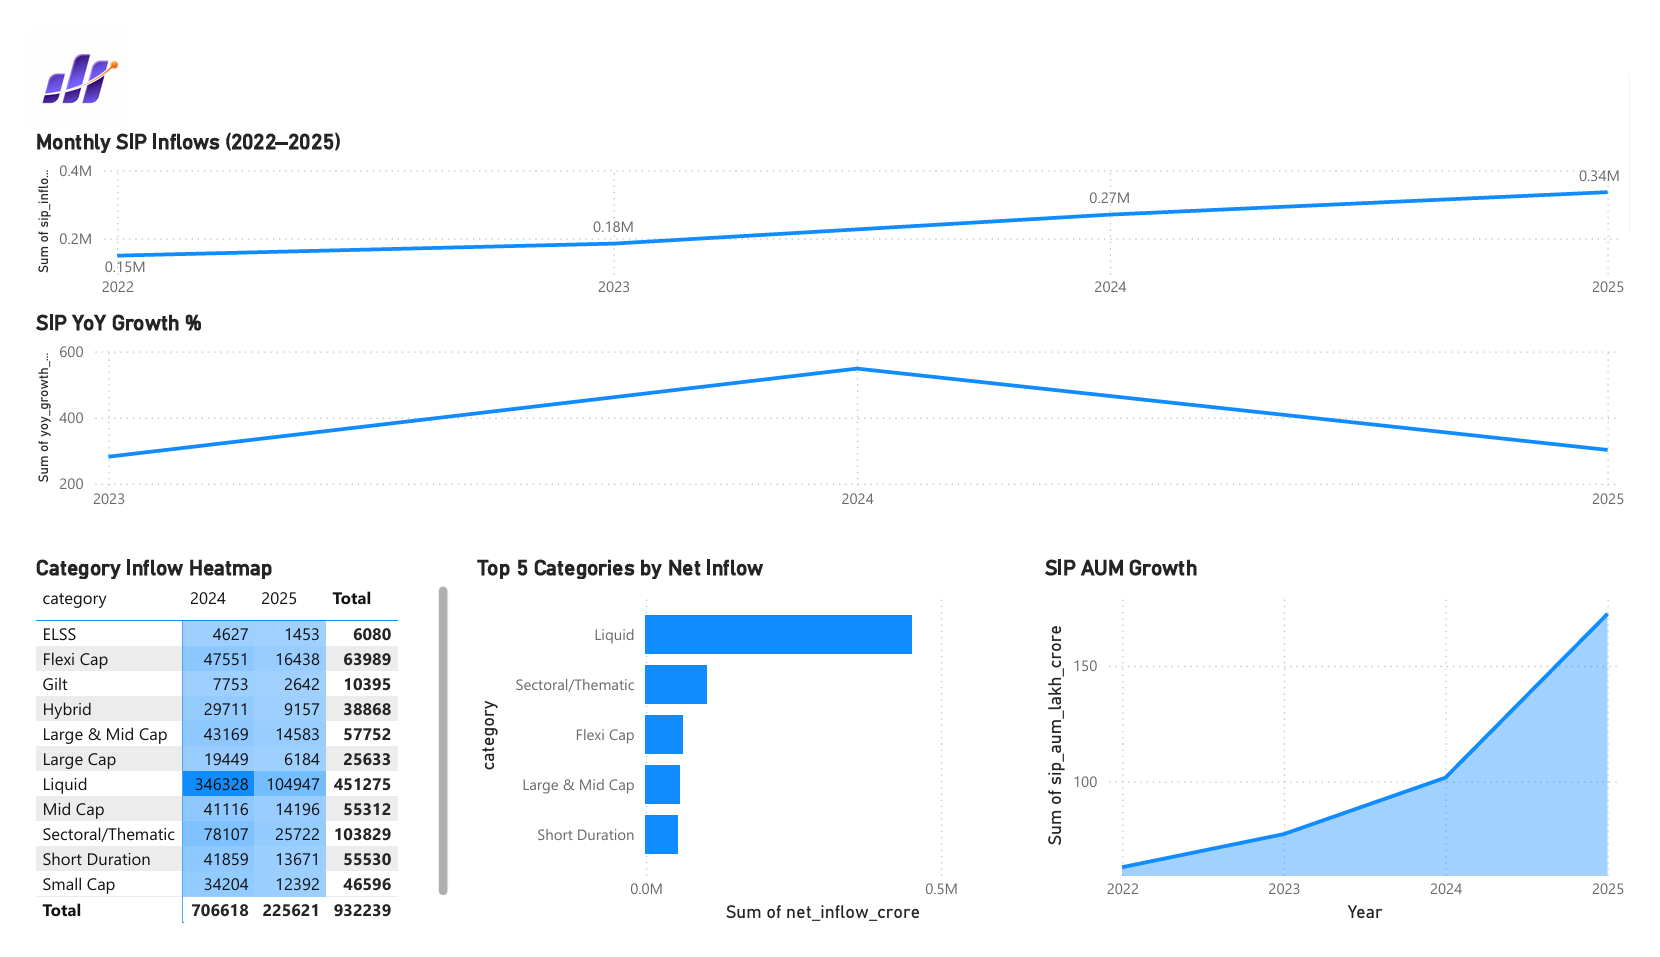

The dashboard page shown, as its layout file describes it:
{"tool":"powerbi","page":{"name":"SIP & Market Trends","canvas":[1280,720],"ordinal":3},"visuals":[{"type":"lineChart","title":"Monthly SIP Inflows (2022–2025)","fields":{"Category":["monthly_sip_inflows_cleaned.month.Variation.Date Hierarchy.Year","monthly_sip_inflows_cleaned.month.Variation.Date Hierarchy.Quarter","monthly_sip_inflows_cleaned.month.Variation.Date Hierarchy.Month","monthly_sip_inflows_cleaned.month.Variation.Date Hierarchy.Day"],"Y":["Sum(monthly_sip_inflows_cleaned.sip_inflow_crore)"]},"box":[0,79.6,1280.3,145.5],"z":0},{"type":"lineChart","title":"SIP YoY Growth %","fields":{"Category":["monthly_sip_inflows_cleaned.month.Variation.Date Hierarchy.Year","monthly_sip_inflows_cleaned.month.Variation.Date Hierarchy.Quarter","monthly_sip_inflows_cleaned.month.Variation.Date Hierarchy.Month","monthly_sip_inflows_cleaned.month.Variation.Date Hierarchy.Day"],"Y":["Sum(monthly_sip_inflows_cleaned.yoy_growth_pct)"]},"box":[0,225,1280.3,168.8],"z":1000},{"type":"pivotTable","title":"Category Inflow Heatmap","fields":{"Rows":["category_inflows_cleaned.category"],"Columns":["category_inflows_cleaned.month.Variation.Date Hierarchy.Year","category_inflows_cleaned.month.Variation.Date Hierarchy.Quarter","category_inflows_cleaned.month.Variation.Date Hierarchy.Month","category_inflows_cleaned.month.Variation.Date Hierarchy.Day"],"Values":["Sum(category_inflows_cleaned.net_inflow_crore)"]},"box":[0,421.3,340.3,299.1],"z":2000},{"type":"clusteredBarChart","title":"Top 5 Categories by Net Inflow","fields":{"Category":["category_inflows_cleaned.category"],"Y":["Sum(category_inflows_cleaned.net_inflow_crore)"]},"box":[352.7,421.3,441.9,299.1],"z":3000},{"type":"areaChart","title":"SIP AUM Growth","fields":{"Category":["monthly_sip_inflows_cleaned.month.Variation.Date Hierarchy.Year","monthly_sip_inflows_cleaned.month.Variation.Date Hierarchy.Quarter","monthly_sip_inflows_cleaned.month.Variation.Date Hierarchy.Month","monthly_sip_inflows_cleaned.month.Variation.Date Hierarchy.Day"],"Y":["Sum(monthly_sip_inflows_cleaned.sip_aum_lakh_crore)"]},"box":[806.9,421.3,473.4,299.1],"z":4000},{"type":"image","box":[0,0,79.6,79.6],"z":5000}]}

Visuals, with their boxes in screenshot pixels (x1, y1, x2, y2), scaled from the page's 1280x720 canvas onto the 1660x957 screenshot:
"Monthly SIP Inflows (2022–2025)" lineChart: region(0, 106, 1659, 299)
"SIP YoY Growth %" lineChart: region(0, 299, 1659, 523)
"Category Inflow Heatmap" pivotTable: region(0, 560, 441, 956)
"Top 5 Categories by Net Inflow" clusteredBarChart: region(457, 560, 1030, 956)
"SIP AUM Growth" areaChart: region(1046, 560, 1659, 956)
image: region(0, 0, 103, 106)
